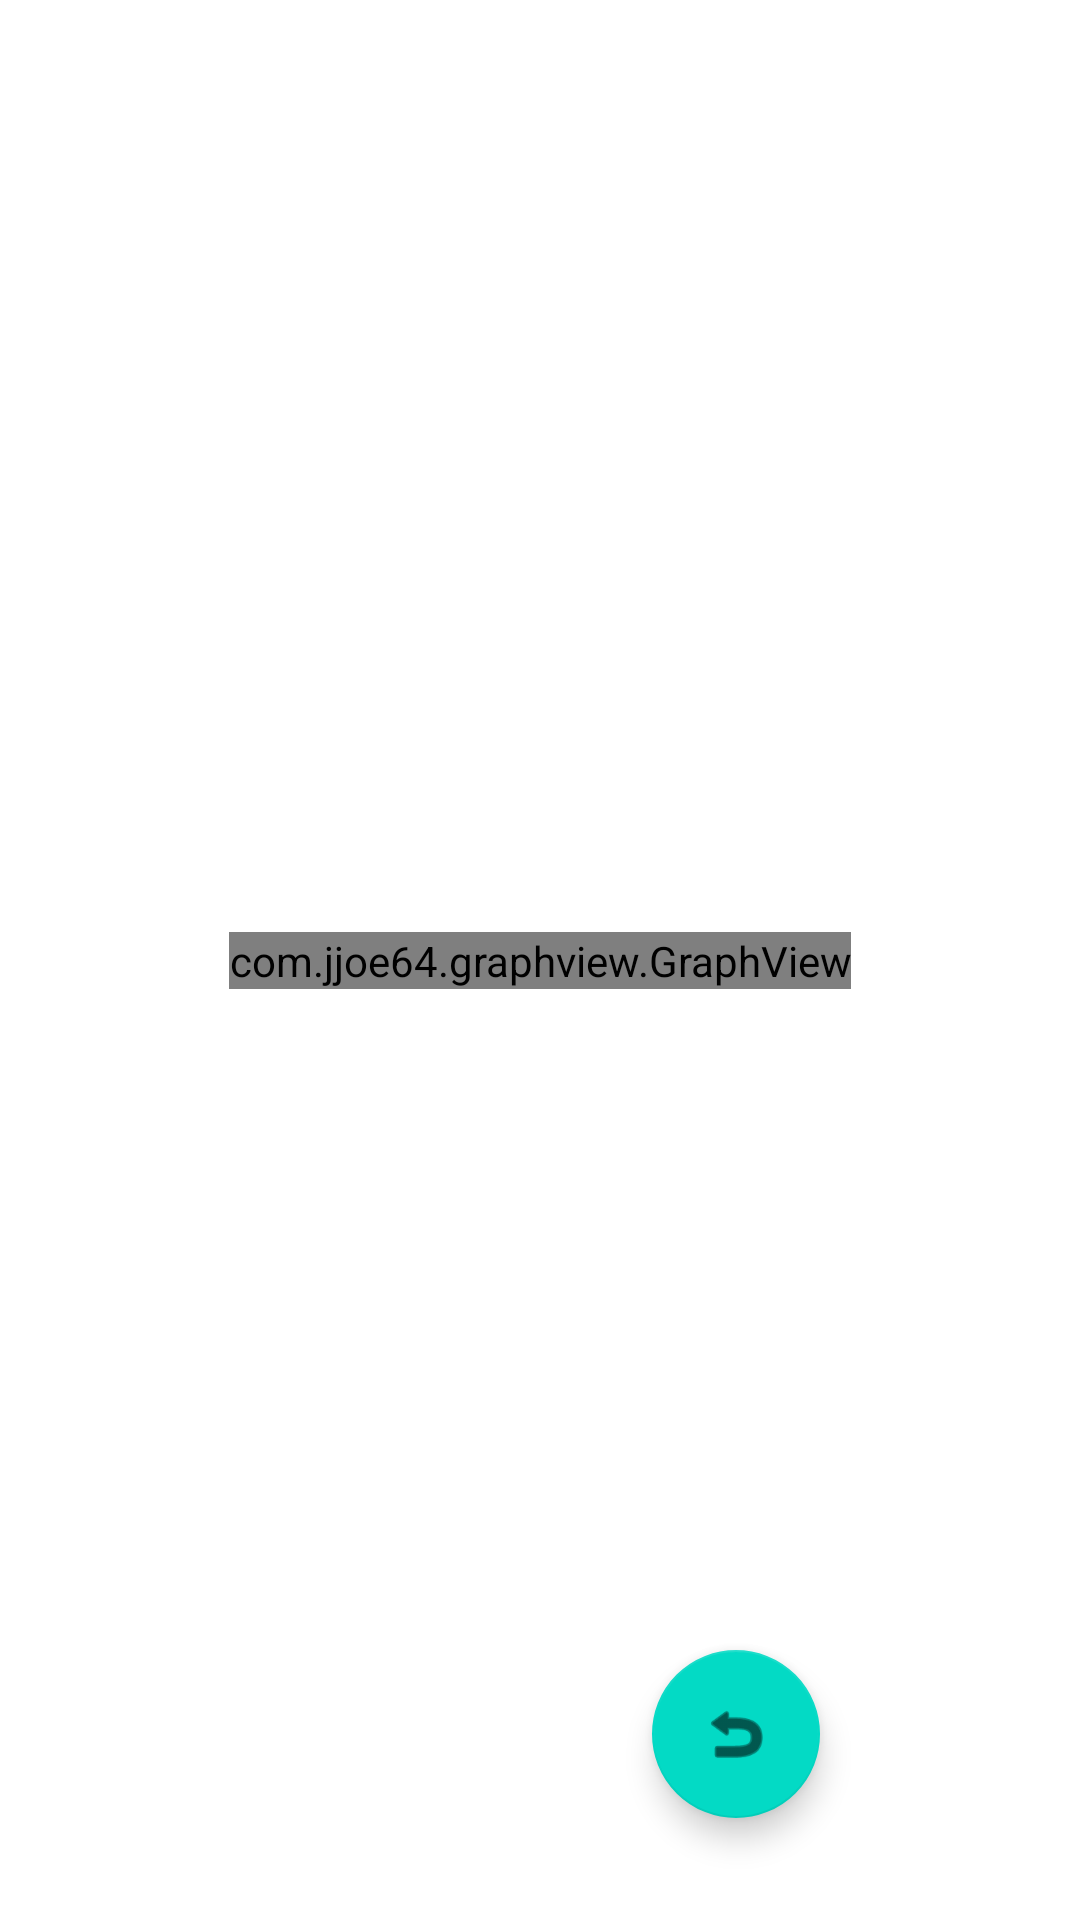

Where icons sit on this 1080 × 1920 app screen, as {"x1": x1, "y1": y1, "x2": x2, "y2": y2}:
revert: {"x1": 652, "y1": 1650, "x2": 820, "y2": 1818}
